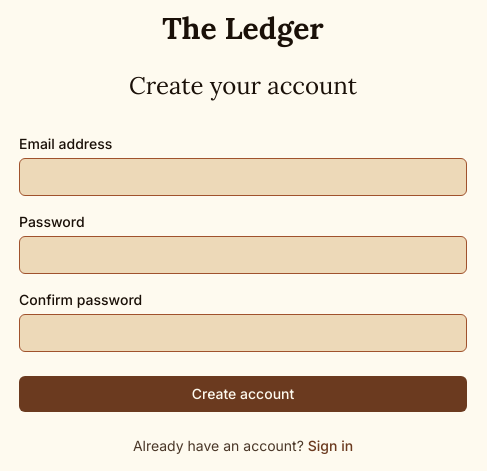
Test case: RegisterPage › should disable form during submission
Type "test@example.com" into the field labelled "Email address".
click(243, 177); type("test@example.com")  # box [19, 158, 467, 196]
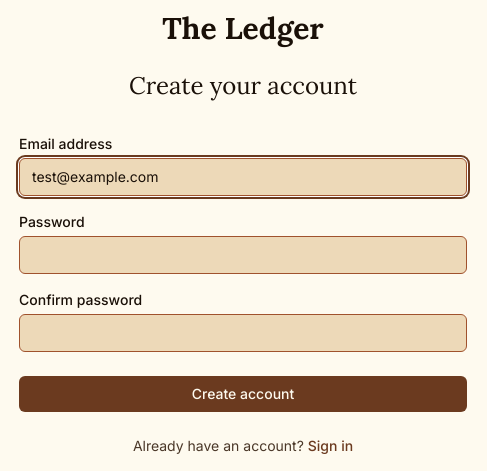
Type "password123" into the password field labelled "Password".
click(243, 255); type("password123")  # box [19, 236, 467, 274]
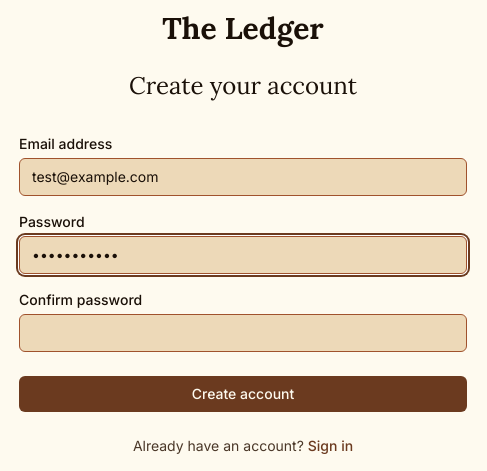
Type "password123" into the password field labelled "Confirm password".
click(243, 333); type("password123")  # box [19, 314, 467, 352]
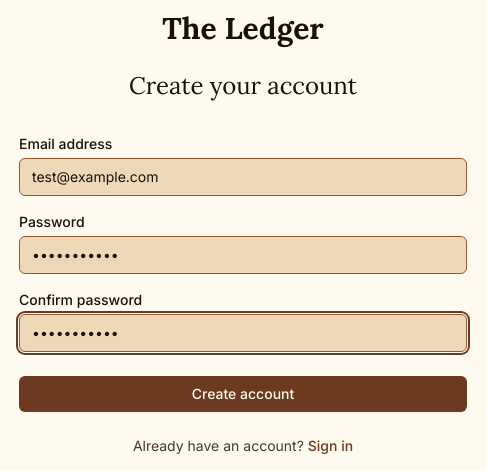
Click the button "Create account".
click(243, 394)  # box [19, 376, 467, 412]
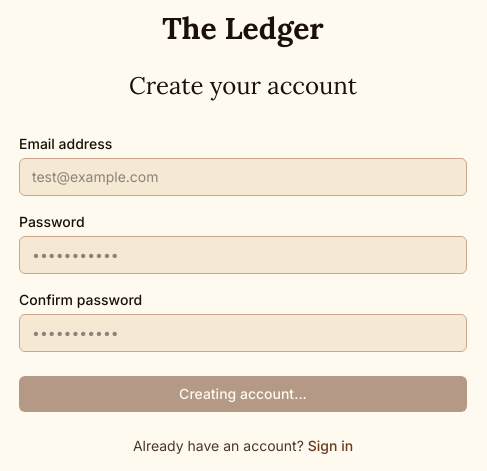
Now the button "Creating account..." is disabled, box [19, 376, 467, 412]
Now the field labelled "Email address" is disabled, box [19, 158, 467, 196]
Now the password field labelled "Password" is disabled, box [19, 236, 467, 274]
